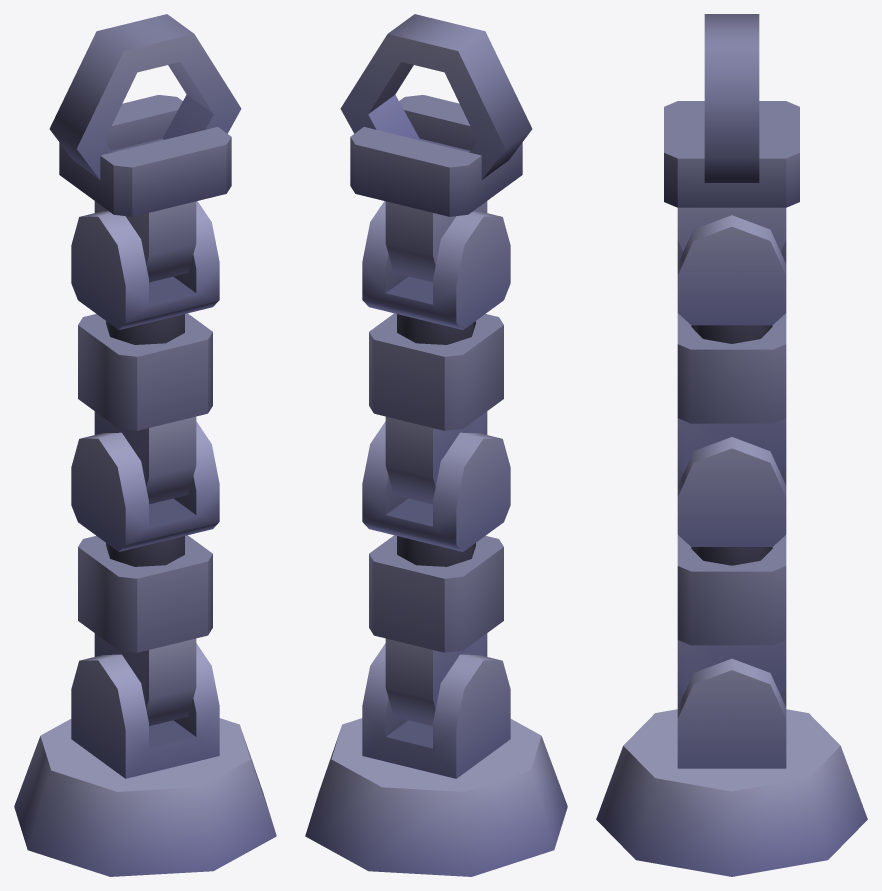
The model's file is arm.glb.
3 views of the same model, side by side, from view 1: azimuth 30°, elevation 25°; view 2: azimuth 150°, elevation 25°; view 3: azimuth 270°, elevation 25° (orthographic).
Parts seen in each view (by area): view 1: robot-arm-a; view 2: robot-arm-a; view 3: robot-arm-a.
Boxes of the visible parts, x1,y1,x2,y2 form: robot-arm-a: (14, 14, 276, 876); robot-arm-a: (305, 14, 567, 876); robot-arm-a: (596, 14, 867, 876).
Size of the model in its own units: 1 by 3.2 by 1.
1 material, 1 textured.
